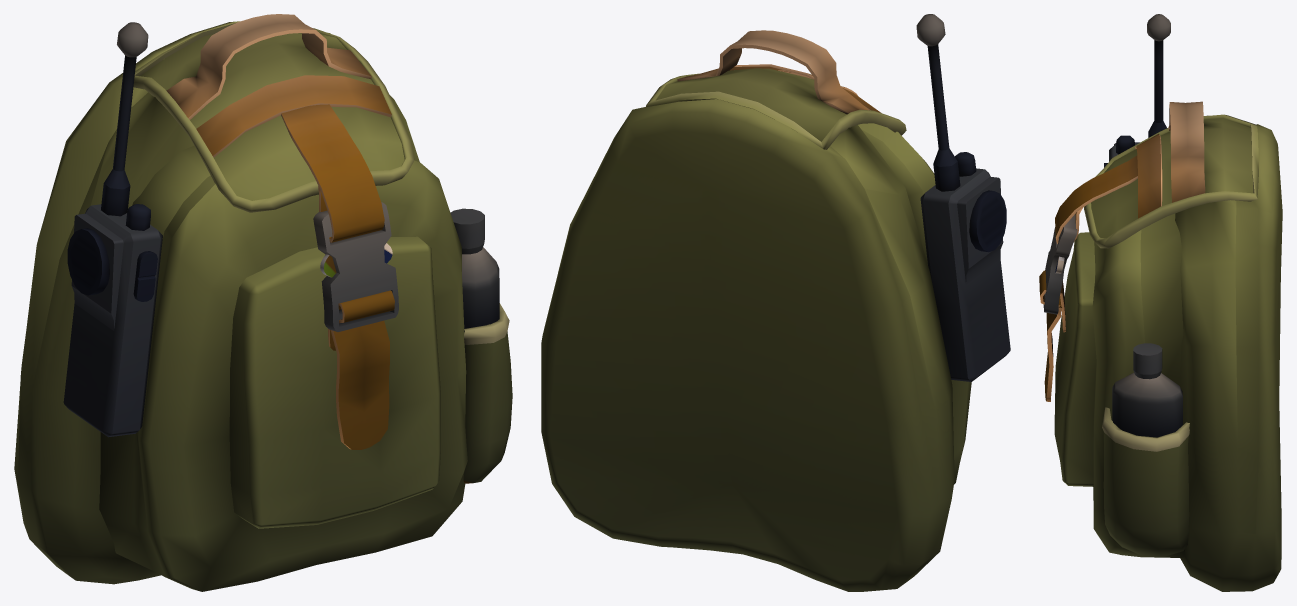
File: Back_Tactical_Backpack.gltf
3 renders of one model, left to right at view 1: azimuth 30°, elevation 25°; view 2: azimuth 150°, elevation 25°; view 3: azimuth 270°, elevation 25°, orthographic. The views are drawn at different scales.
Parts seen in each view (by area): view 1: Back_Tactical_Backpack; view 2: Back_Tactical_Backpack; view 3: Back_Tactical_Backpack.
Boxes of the visible parts, bbox=[...] form: Back_Tactical_Backpack: bbox=[14, 14, 512, 591]; Back_Tactical_Backpack: bbox=[541, 14, 1010, 591]; Back_Tactical_Backpack: bbox=[1039, 14, 1282, 591].
Size of the model in its own units: 0.676 by 0.8908 by 0.4219.
Materials: 2 (2 with a texture image).
